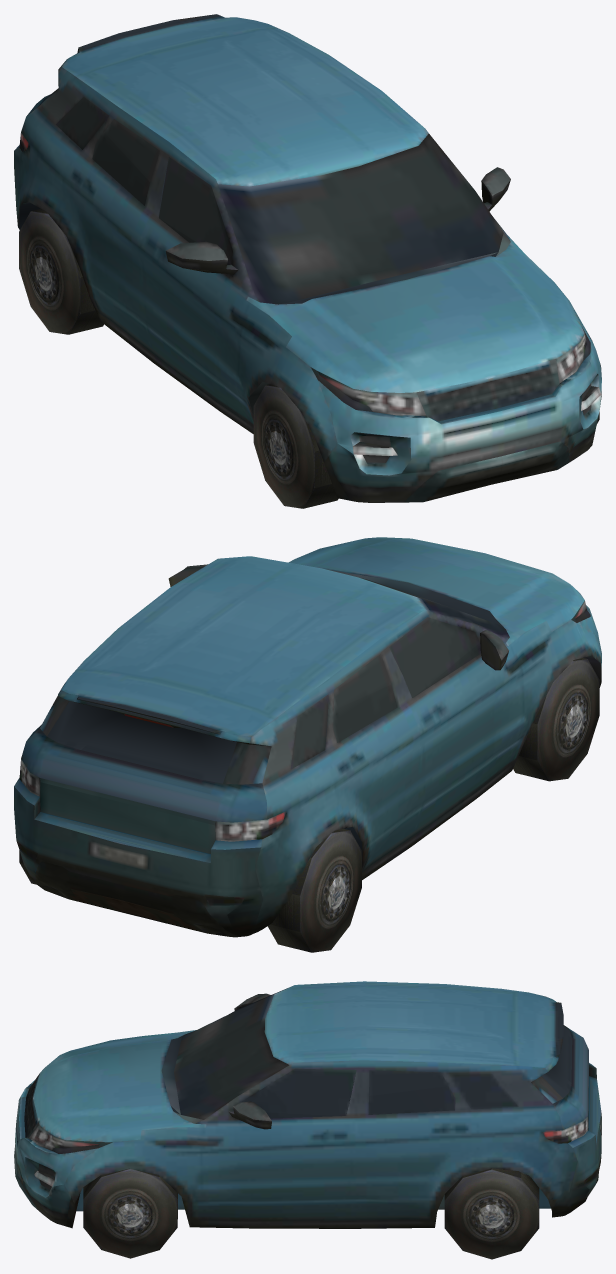
Rendered from car 10.FBX.
3 views of the same model, one above another, from view 1: azimuth 30°, elevation 25°; view 2: azimuth 150°, elevation 25°; view 3: azimuth 270°, elevation 25° (orthographic). The views are drawn at different scales.
Parts seen in each view (by area): view 1: Car_04_2, Wheels_FR__2__233, Wheels_FR__1__233; view 2: Car_04_2, Wheels_FR__1__233, Wheels_FR__2__233; view 3: Car_04_2, Wheels_FR__1__233, Wheels_FR__2__233.
Part boxes in pixels (bbox=[...]): Car_04_2: bbox=[14, 14, 601, 502]; Wheels_FR__2__233: bbox=[253, 384, 599, 508]; Wheels_FR__1__233: bbox=[19, 208, 103, 334]; Car_04_2: bbox=[14, 537, 601, 937]; Wheels_FR__1__233: bbox=[19, 828, 361, 952]; Wheels_FR__2__233: bbox=[513, 658, 599, 781]; Car_04_2: bbox=[14, 981, 601, 1228]; Wheels_FR__1__233: bbox=[444, 1168, 539, 1259]; Wheels_FR__2__233: bbox=[83, 1168, 177, 1258].
Size of the model in its own units: 21.83 by 15.56 by 43.26.
Materials: 2 (2 with a texture image).
